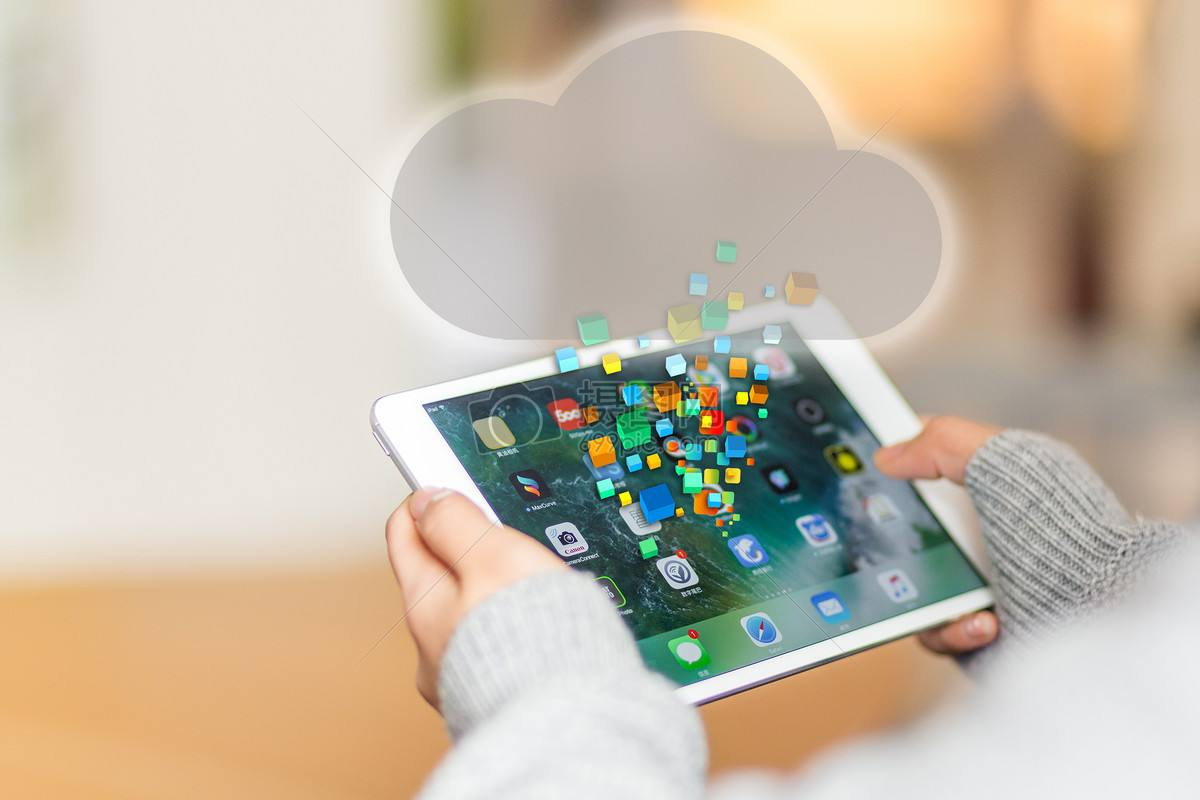pad: (337, 275, 1130, 722)
